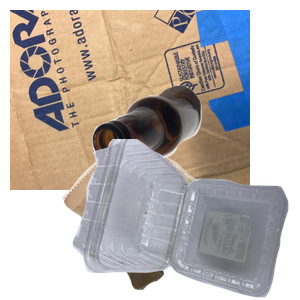cardboard: (10, 10, 250, 190)
glass: (90, 83, 300, 235)
plastic: (70, 139, 300, 300)
trash: (59, 124, 273, 300)
